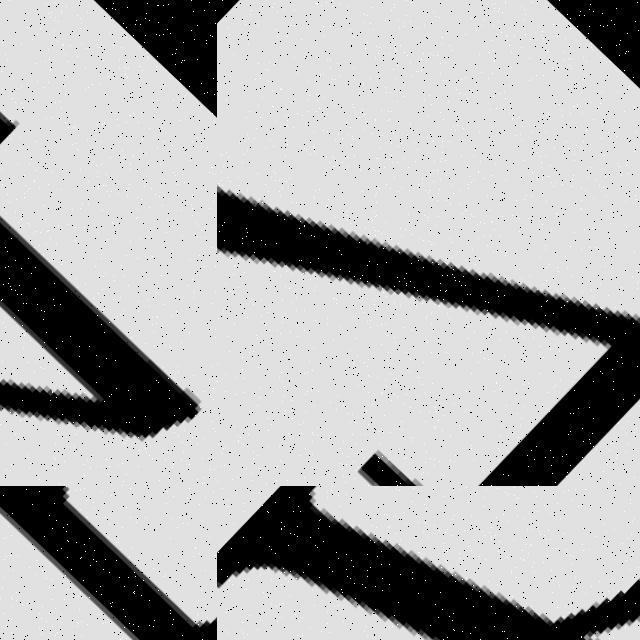7: (217, 0, 640, 486)
N: (217, 486, 640, 640)
P: (0, 486, 217, 640)
